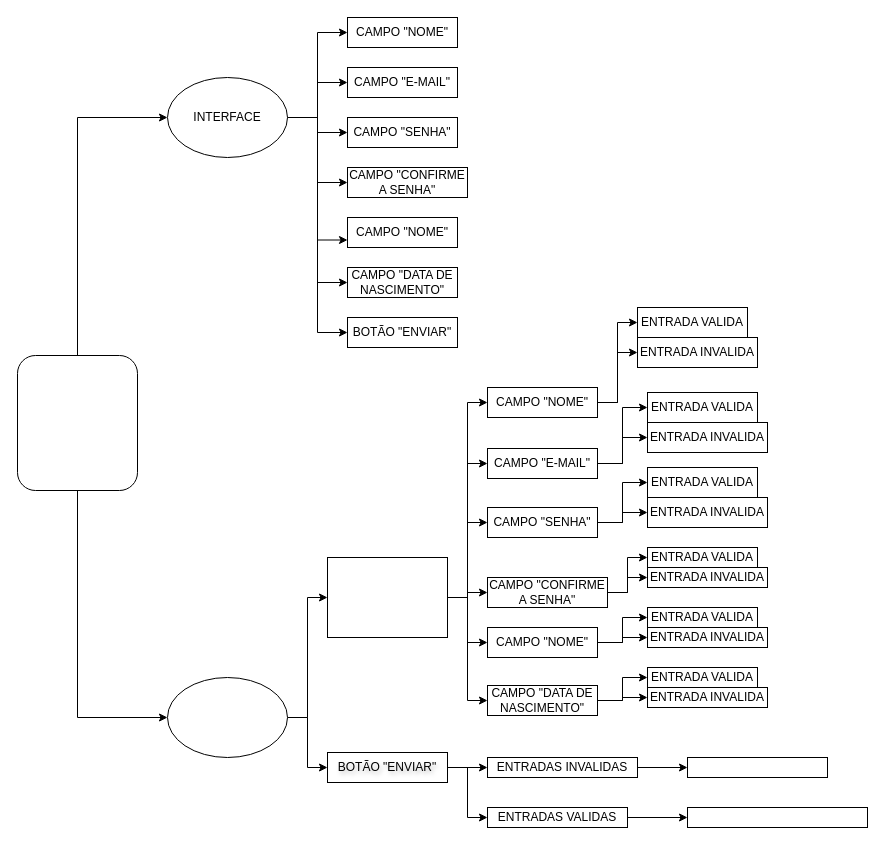
Some shapes in this 885 by 845 pixel diagram are drawn without their labels. Each missing label, with the centre of its shape:
"Biblioteca Online - formulário de registro do usuário" belongs at point (77, 422).
"CONTA DO USÚARIO CRIADA" belongs at point (777, 817).
"FUNCIONALIDADES" belongs at point (227, 717).
"MENSAGEM DE ERRO" belongs at point (757, 767).
"VERIFICANDO SE AS ENTRADAS DE DADOS NOS CAMPOS ESTÃO CORRETAS" belongs at point (387, 597).
